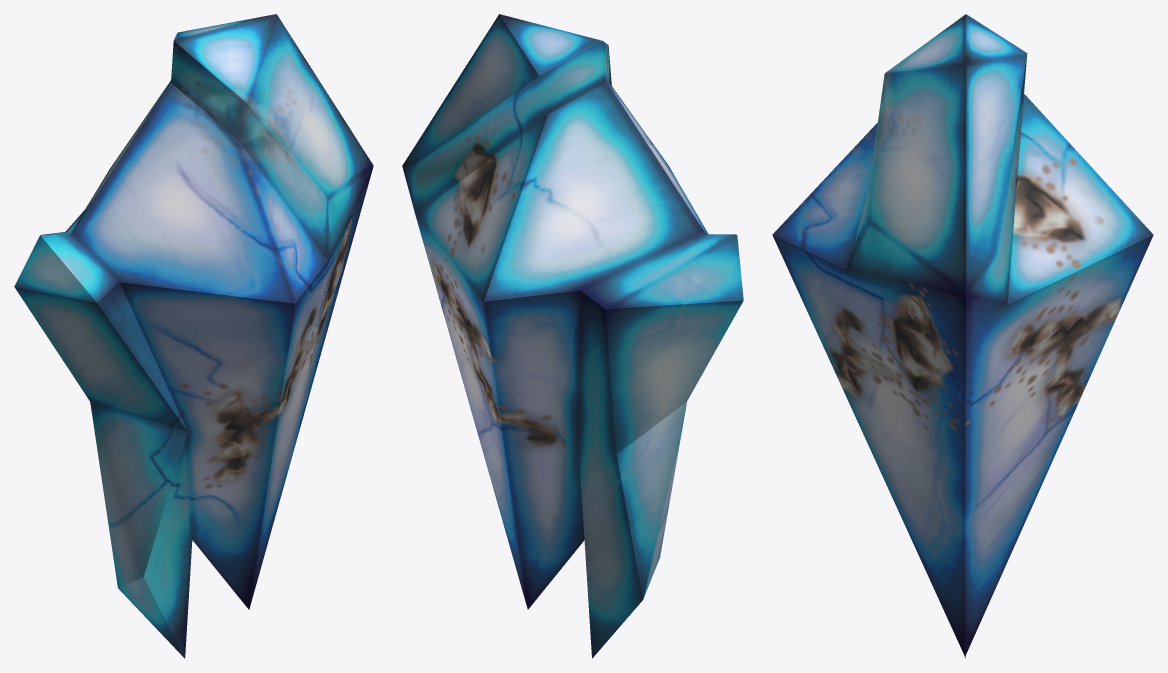
The model's file is crystal-blue.glb.
3 views of the same model, side by side, from view 1: azimuth 30°, elevation 25°; view 2: azimuth 150°, elevation 25°; view 3: azimuth 270°, elevation 25° (orthographic). The views are drawn at different scales.
Parts seen in each view (by area): view 1: crystal_3.001_Plane.012; view 2: crystal_3.001_Plane.012; view 3: crystal_3.001_Plane.012.
Part boxes in pixels (<box>): crystal_3.001_Plane.012: <box>14,14,373,658</box>; crystal_3.001_Plane.012: <box>402,14,743,658</box>; crystal_3.001_Plane.012: <box>772,14,1153,658</box>.
Bounding box in the file's own units: 0.8195 × 1.39 × 0.7499.
1 material, 1 textured.
